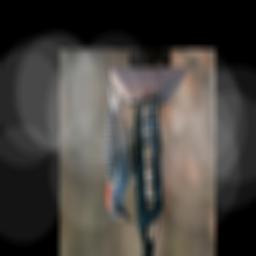Woodpecker: (105, 57, 139, 227)
